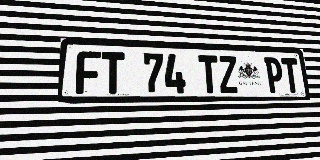4: (164, 54, 186, 94)
7: (142, 53, 164, 94)
F: (76, 51, 101, 94)
P: (264, 57, 285, 93)
T: (101, 52, 125, 94), (198, 55, 220, 93), (281, 58, 301, 93)
Z: (218, 56, 239, 93)
